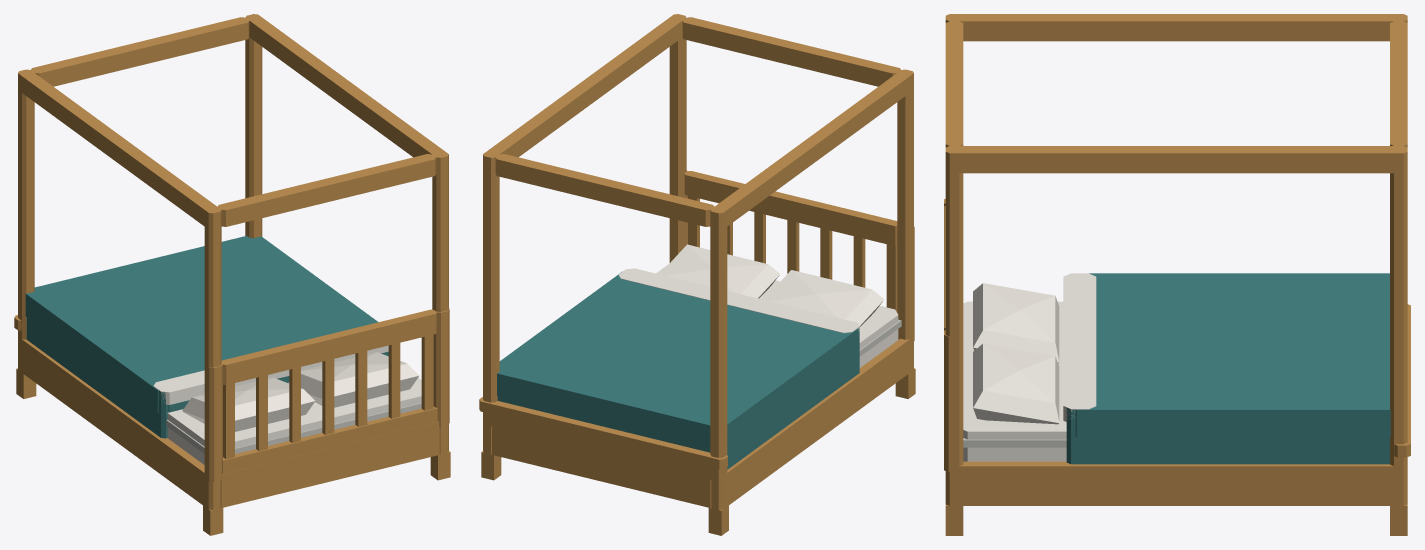
The model's file is SM_LPI_Bed_Canopy_01.fbx.
3 views of the same model, side by side, from view 1: azimuth 30°, elevation 25°; view 2: azimuth 150°, elevation 25°; view 3: azimuth 270°, elevation 25° (orthographic). The views are drawn at different scales.
Parts seen in each view (by area): view 1: SM_LPI_Bed_Canopy_01; view 2: SM_LPI_Bed_Canopy_01; view 3: SM_LPI_Bed_Canopy_01.
Part boxes in pixels (<box>): SM_LPI_Bed_Canopy_01: <box>14,14,450,535</box>; SM_LPI_Bed_Canopy_01: <box>479,14,915,535</box>; SM_LPI_Bed_Canopy_01: <box>944,14,1410,535</box>.
Bounding box in the file's own units: 1.53 × 1.92 × 2.12.
